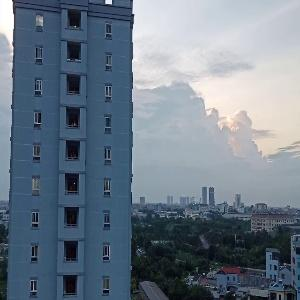drone: (179, 220, 225, 266)
